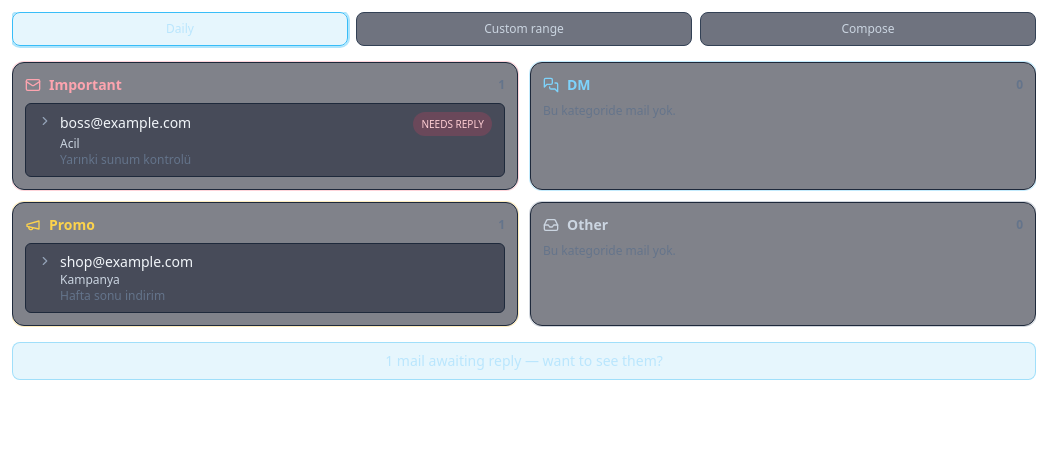
MailCard real-data flow › compose tab short-circuits the fetch and renders a blank draft
Expected: the element with test id "mail-cat-important" is shown, [12,62,518,190]
Click the button with test id "range-compose".
click(868, 29)  # box [700,12,1036,46]
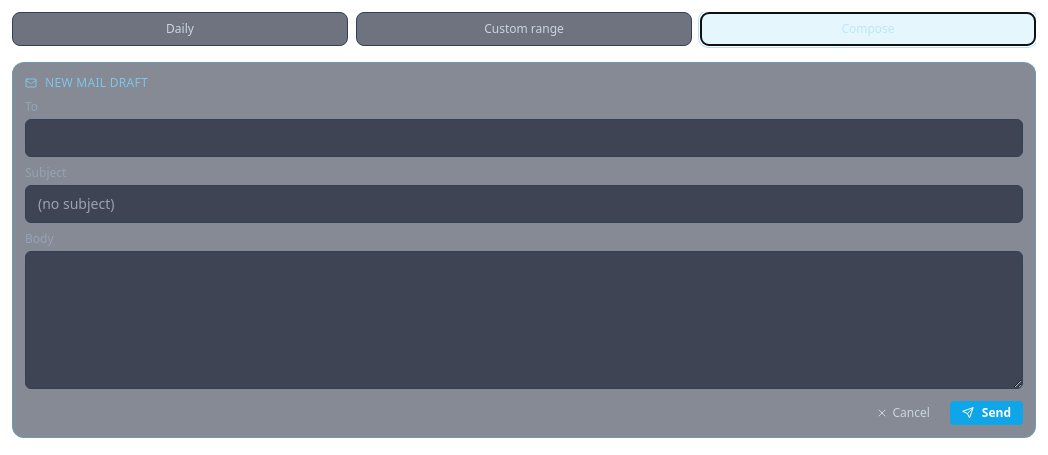
Expected: the element with test id "mail-draft-card" is shown
